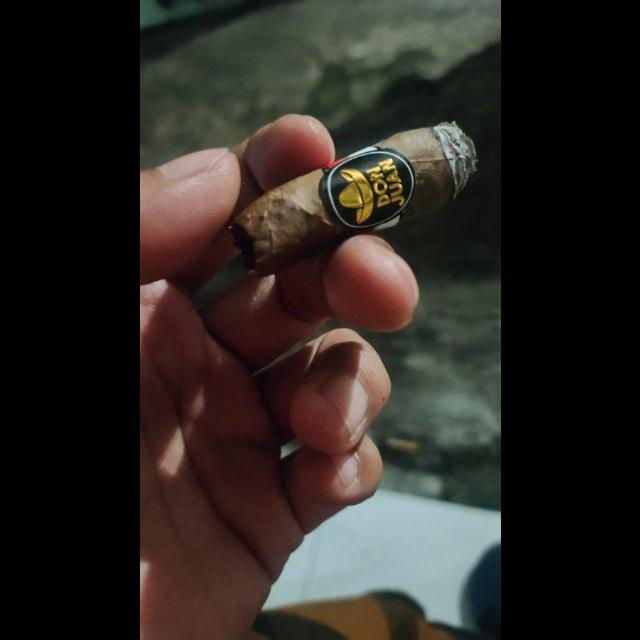rokok: (230, 116, 500, 270)
